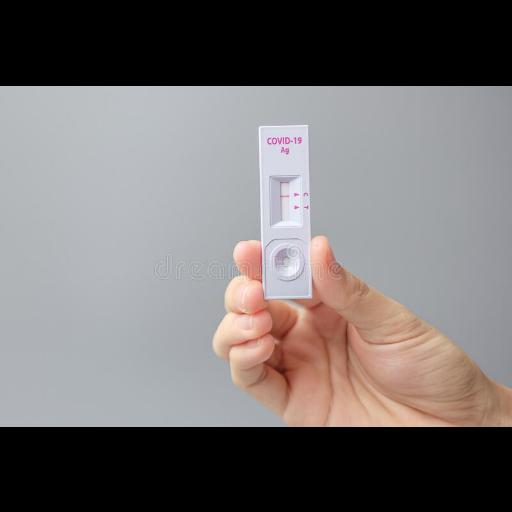Neg: (258, 124, 314, 300)
